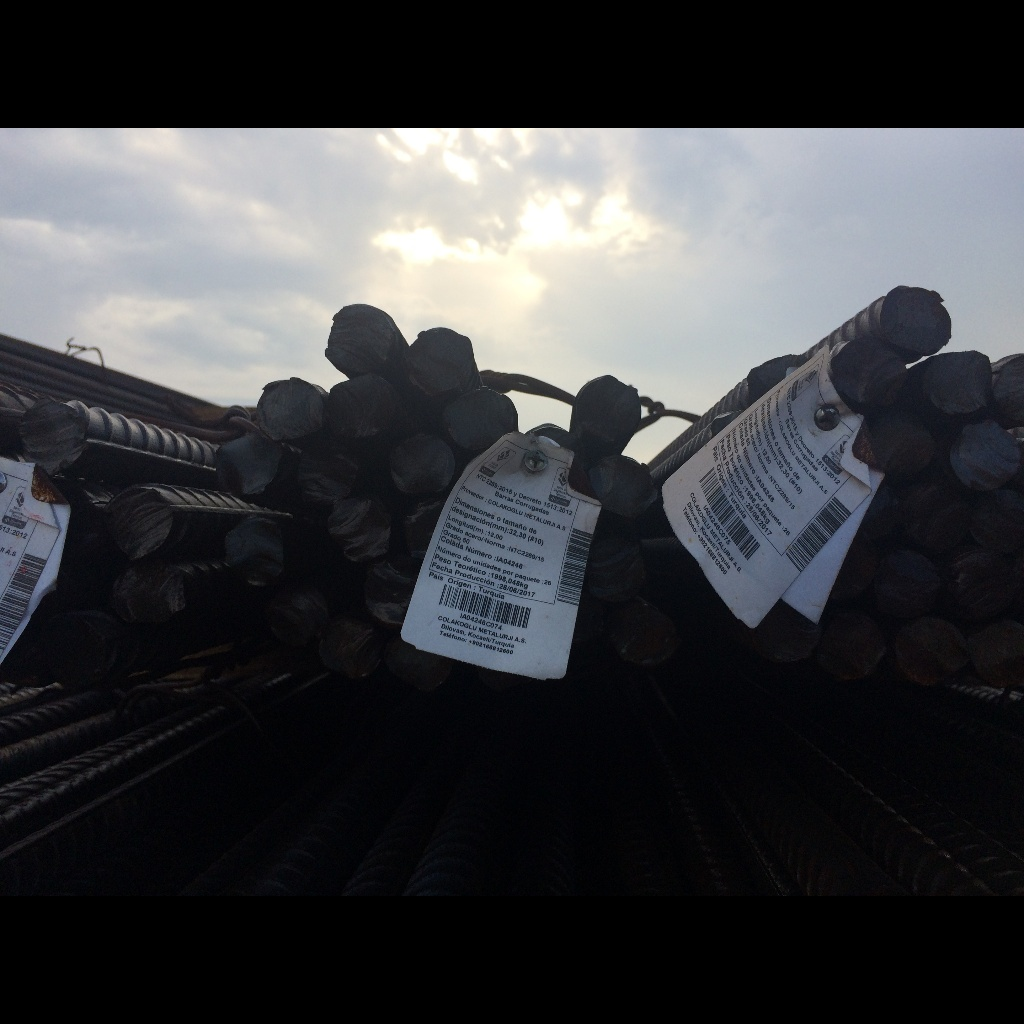dipstick: (872, 550, 944, 624), (102, 485, 171, 562), (901, 475, 967, 555), (892, 617, 970, 684), (19, 397, 83, 476), (818, 615, 889, 685), (834, 342, 912, 405), (404, 326, 475, 395), (324, 303, 396, 370), (881, 288, 953, 354), (445, 389, 519, 452), (952, 422, 1021, 489), (950, 555, 1019, 622), (751, 601, 820, 667), (224, 519, 288, 589), (588, 455, 659, 518), (927, 345, 991, 413), (314, 616, 384, 678), (327, 497, 393, 562), (328, 376, 395, 439), (216, 437, 283, 500), (388, 435, 456, 497), (578, 375, 641, 441), (256, 378, 322, 440), (614, 605, 680, 666), (380, 637, 454, 690), (873, 416, 935, 478), (266, 589, 329, 649), (587, 539, 646, 602), (299, 443, 359, 503), (365, 557, 417, 624), (973, 488, 1024, 555), (972, 620, 1024, 679), (110, 565, 158, 621), (404, 504, 446, 555), (158, 567, 196, 613)
